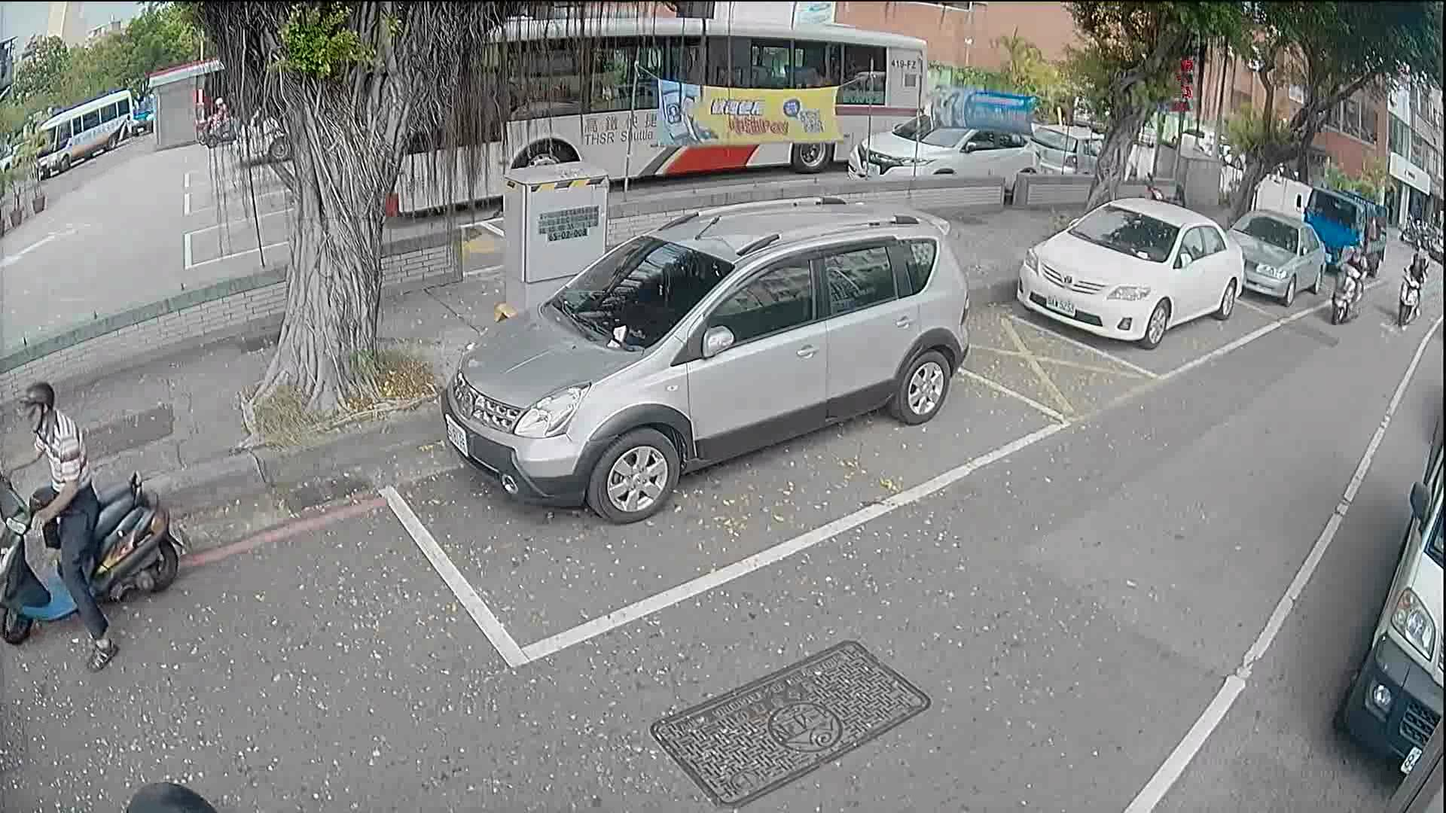person: (0, 379, 120, 672), (121, 777, 227, 811), (1335, 240, 1368, 309), (209, 95, 229, 134), (1407, 251, 1427, 286)
